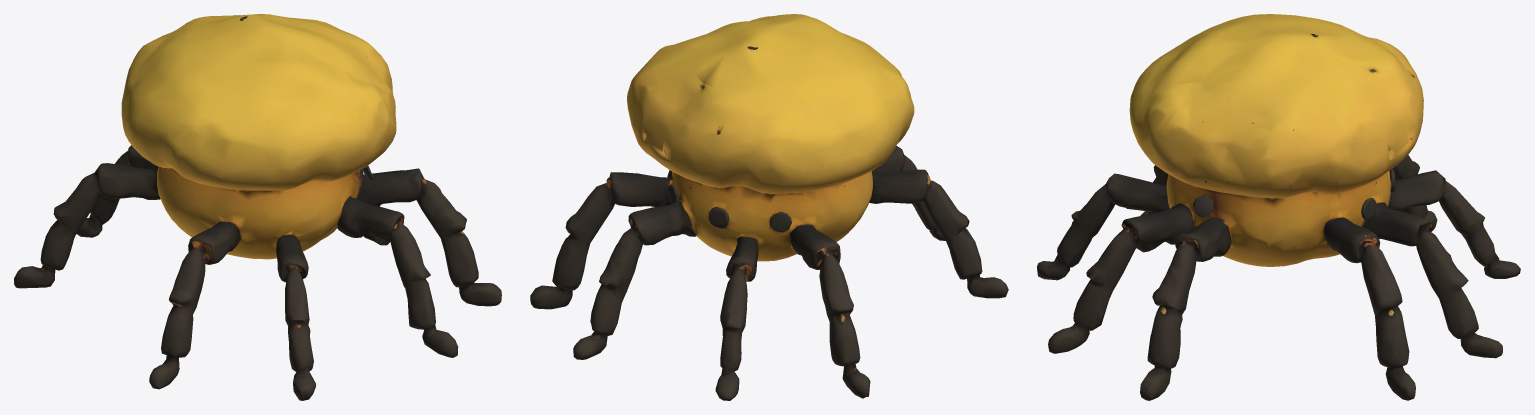
Rendered from legs.glb.
The picture shows the model from 3 angles, left to right: view 1: azimuth 30°, elevation 25°; view 2: azimuth 150°, elevation 25°; view 3: azimuth 270°, elevation 25°; orthographic projection. The views are drawn at different scales.
Visible parts, largest first — view 1: tripo_node_731f881f-3f62-4357-8c2c-75a82717b733; view 2: tripo_node_731f881f-3f62-4357-8c2c-75a82717b733; view 3: tripo_node_731f881f-3f62-4357-8c2c-75a82717b733.
Part boxes in pixels (left/top/right/bottom): tripo_node_731f881f-3f62-4357-8c2c-75a82717b733: left=14, top=14, right=501, bottom=400; tripo_node_731f881f-3f62-4357-8c2c-75a82717b733: left=530, top=14, right=1008, bottom=400; tripo_node_731f881f-3f62-4357-8c2c-75a82717b733: left=1037, top=14, right=1520, bottom=400.
Size of the model in its own units: 0.8694 by 0.6428 by 1.
1 material, 1 textured.
